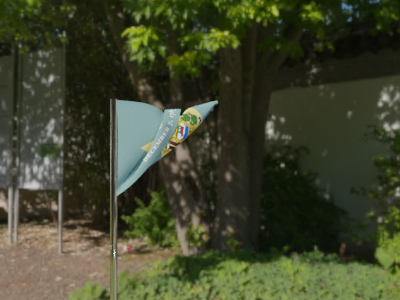Delaware flag: (117, 99, 219, 196)
